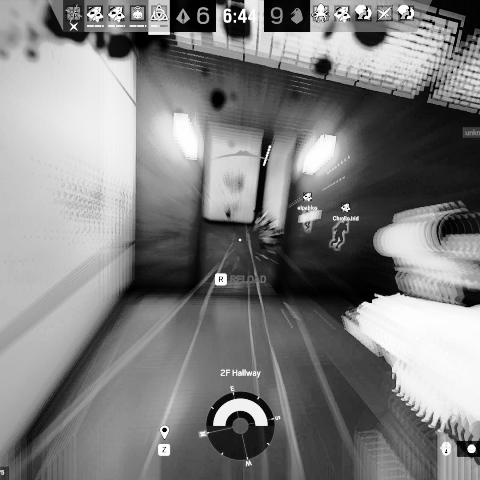Character: (248, 208, 282, 259)
Friend_label: (333, 202, 360, 221), (297, 191, 318, 210)
